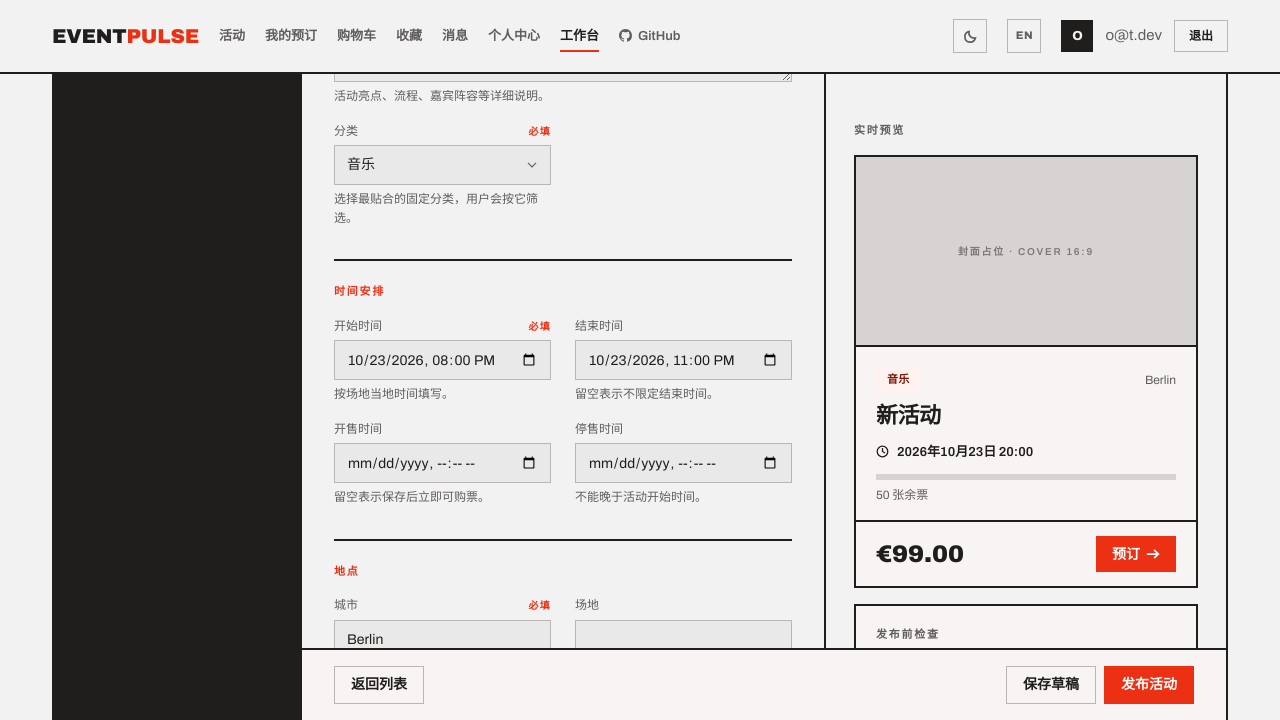
Scenario: organiser event form › rejects an end time that precedes the start time
(page scrolled)
Replace the text in the field labelled "开始时间" with "2027-03-01T19:30": [442, 360] box 334,340 -> 551,380
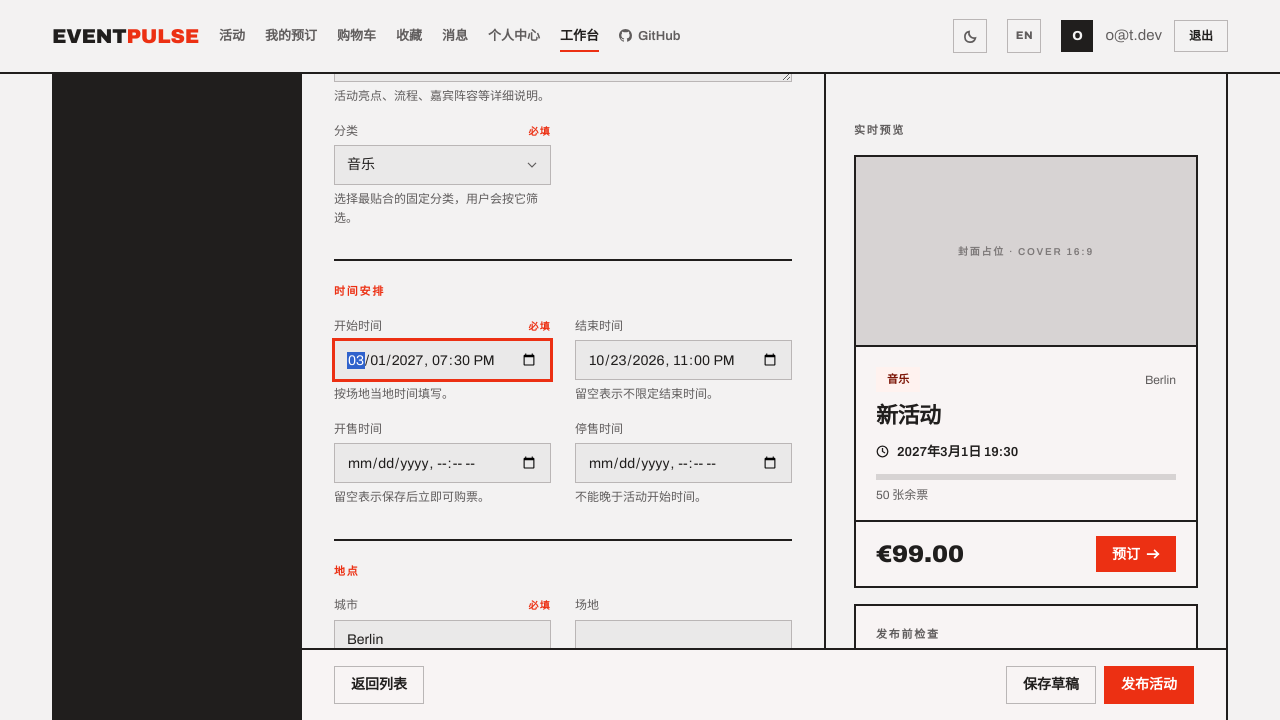
Replace the text in the field labelled "结束时间" with "2027-03-01T18:00": [684, 360] box 575,340 -> 792,380
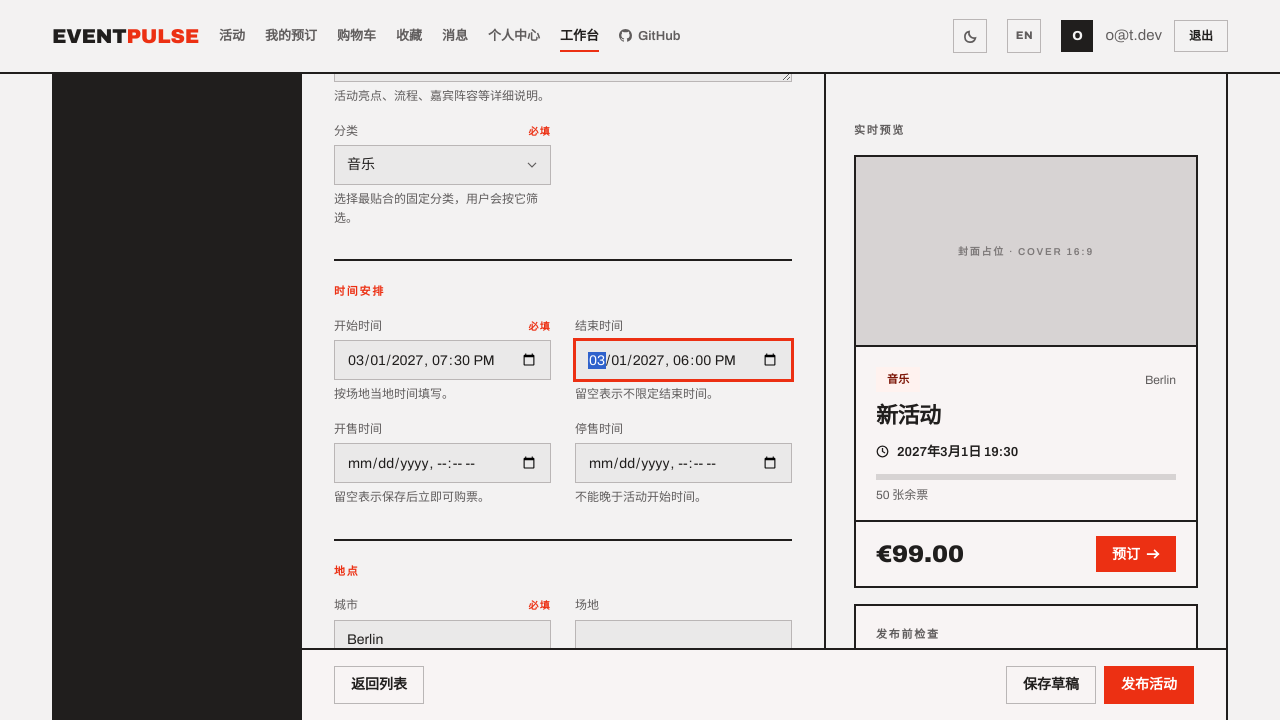
Click the button "发布活动": [1149, 685] box 1104,666 -> 1194,704
(page scrolled)
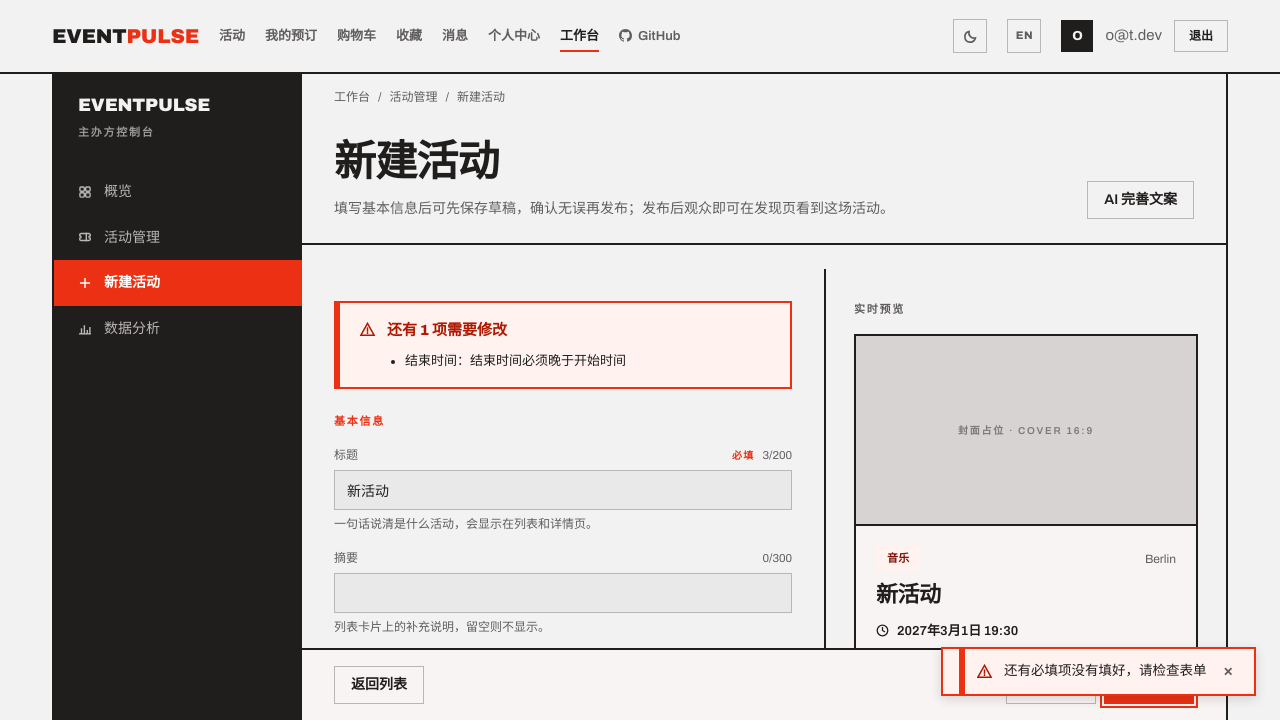
Now the list item "结束时间：结束时间必须晚于开始时间" is shown, box 405,354 -> 626,368
